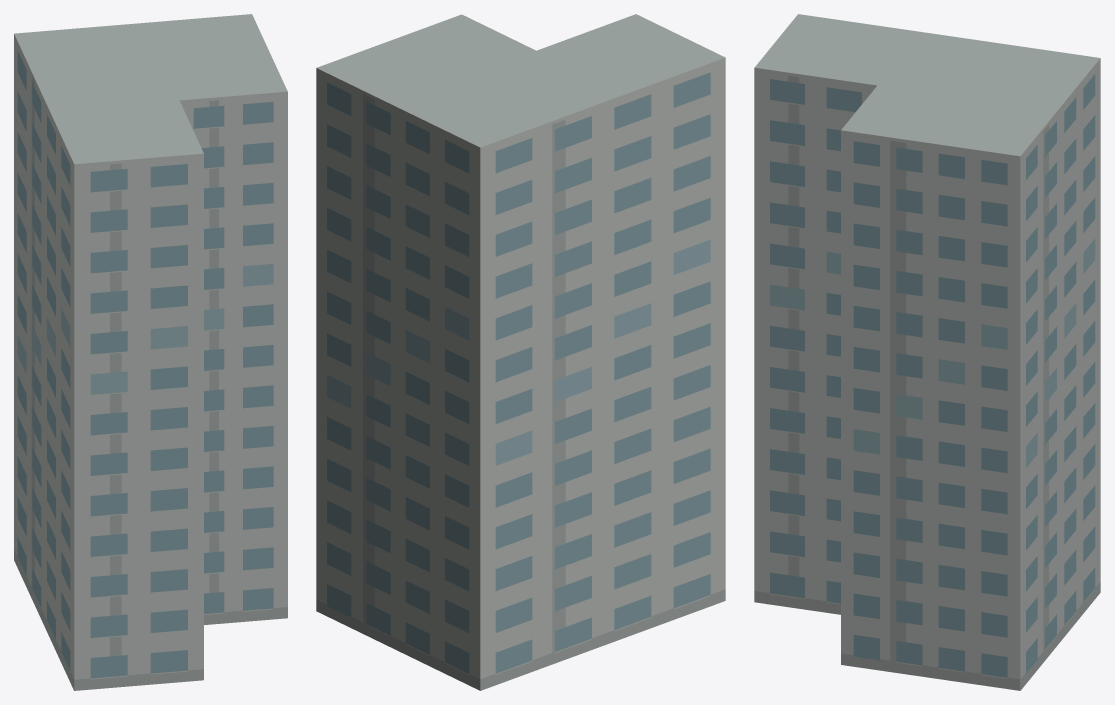
The model's file is residential-f80bc054-fb76-4d92-8253-0c34d132feb8.glb.
The picture shows the model from 3 angles, left to right: view 1: azimuth 30°, elevation 25°; view 2: azimuth 150°, elevation 25°; view 3: azimuth 270°, elevation 25°; orthographic projection. The views are drawn at different scales.
Parts seen in each view (by area): view 1: residential-f80bc054-fb76-4d92-8253-0c34d132feb8.tmp; view 2: residential-f80bc054-fb76-4d92-8253-0c34d132feb8.tmp; view 3: residential-f80bc054-fb76-4d92-8253-0c34d132feb8.tmp.
Boxes of the visible parts, x1,y1,x2,y2 form: residential-f80bc054-fb76-4d92-8253-0c34d132feb8.tmp: (14,14,287,690); residential-f80bc054-fb76-4d92-8253-0c34d132feb8.tmp: (316,14,725,690); residential-f80bc054-fb76-4d92-8253-0c34d132feb8.tmp: (754,14,1100,690).
Bounding box in the file's own units: 23.42 × 41 × 24.07.
